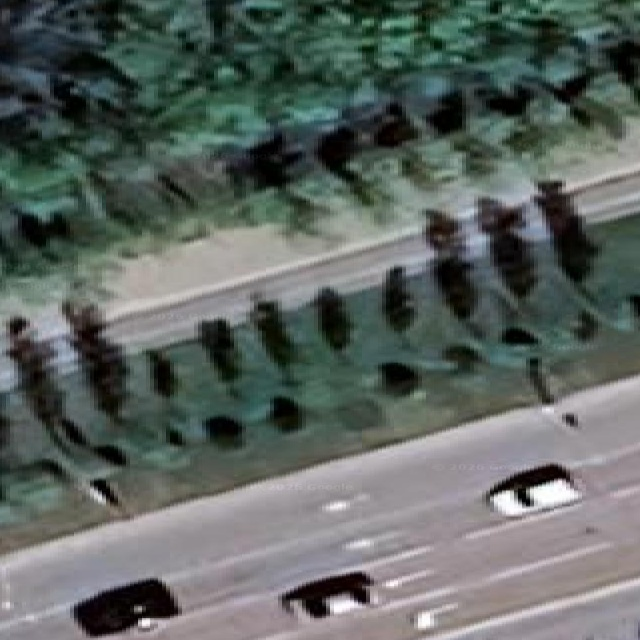car: (72, 579, 180, 636), (486, 464, 581, 516), (281, 572, 377, 618)
